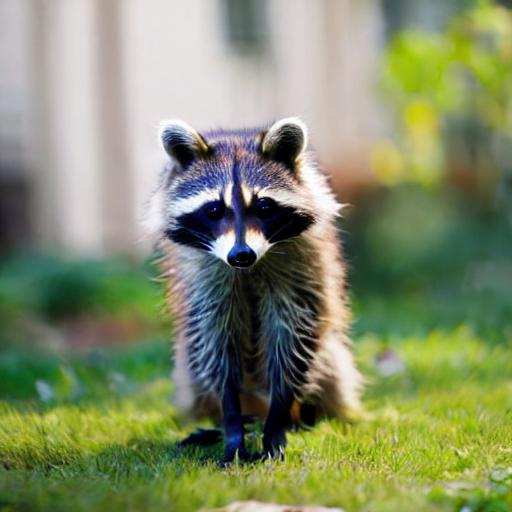raccoon: (148, 112, 366, 442)
